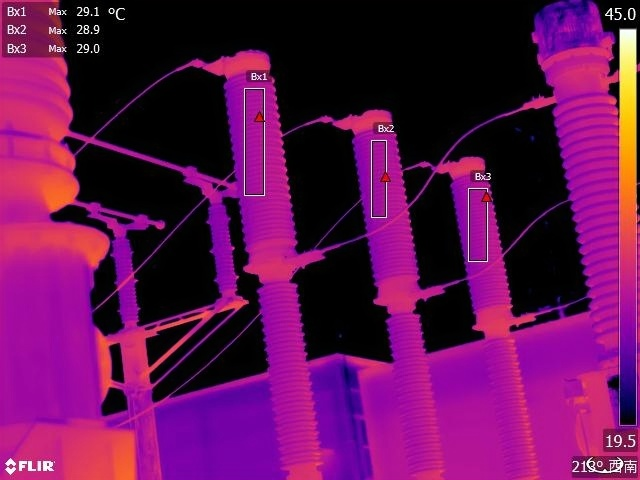circuit breaker: (202, 44, 346, 472), (336, 92, 448, 480), (435, 145, 544, 480)
current transformer: (524, 1, 619, 361)
post insulator: (106, 222, 146, 329), (202, 193, 241, 295)
